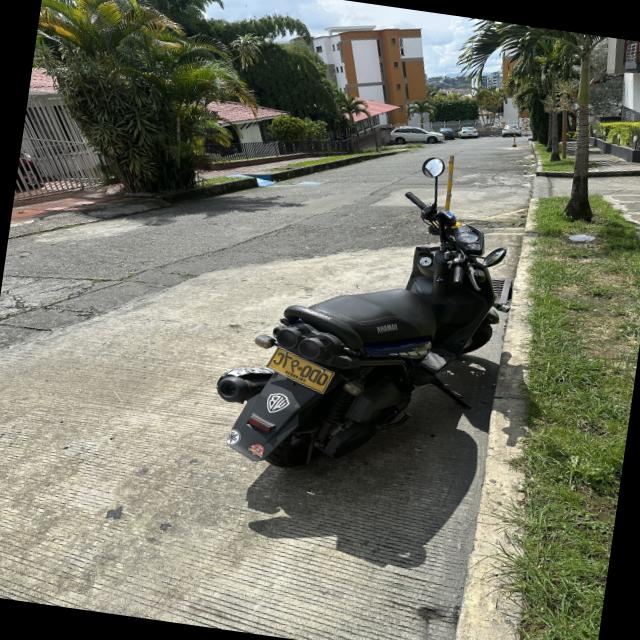number plate: (268, 347, 335, 393)
